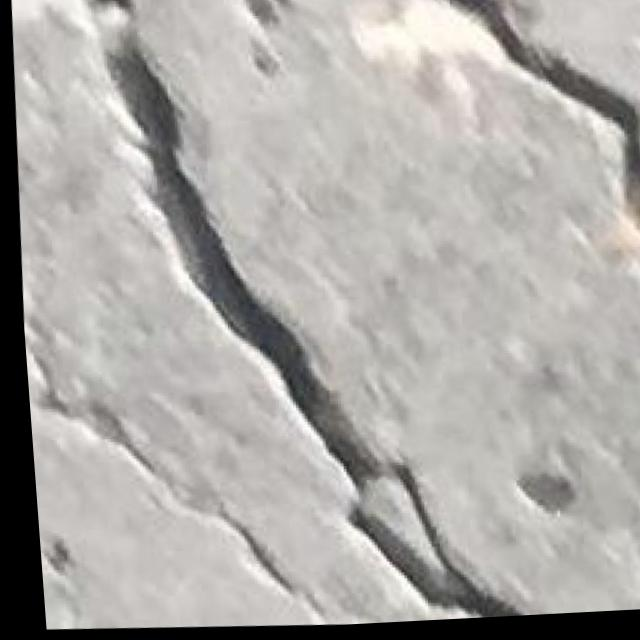Crack: (62, 0, 555, 637), (417, 0, 640, 318)
